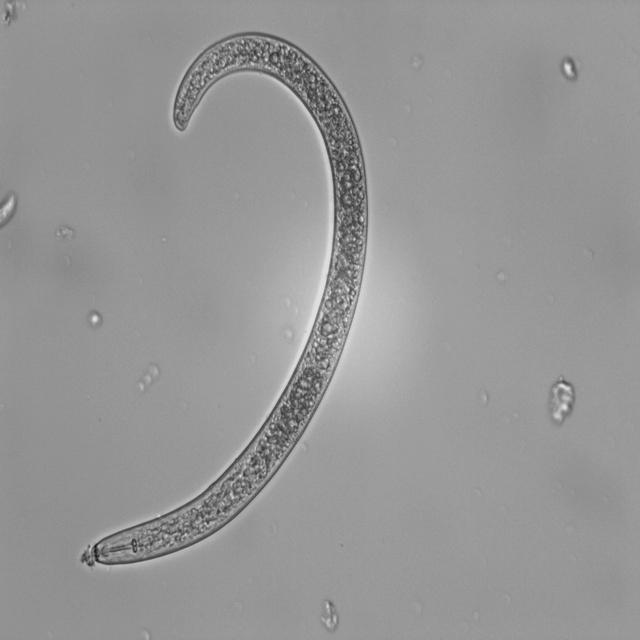Helicotylenchus: (74, 28, 381, 575)
